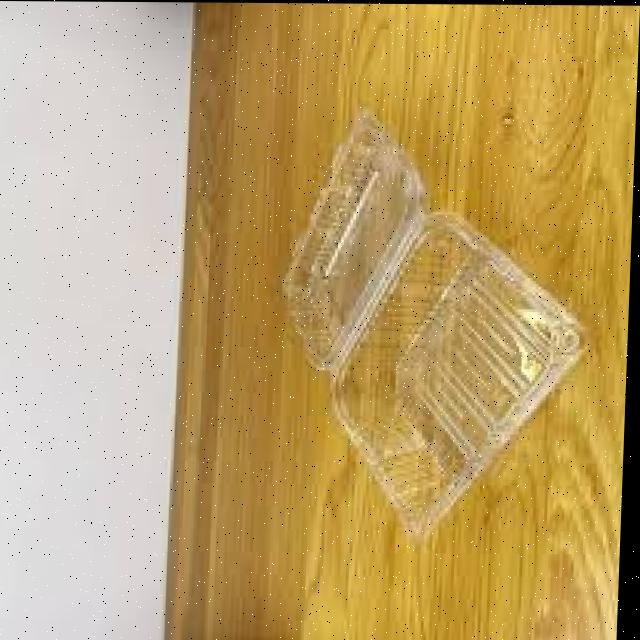disposable: (325, 179, 582, 529)
